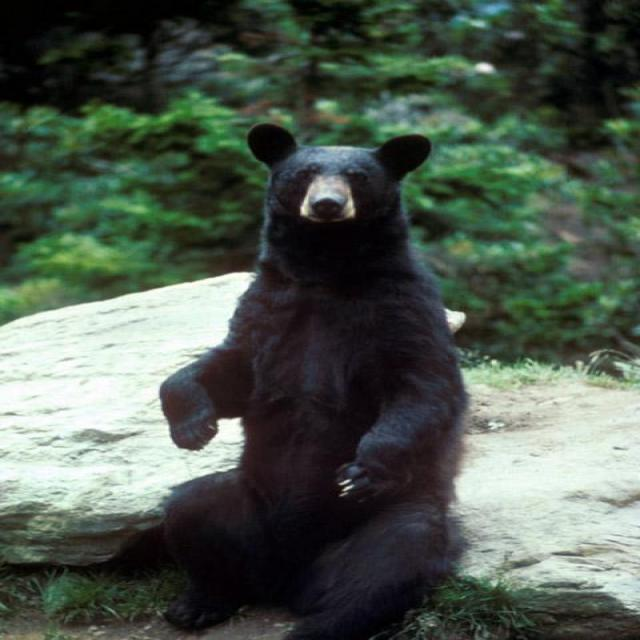Bear: (157, 124, 469, 640)
